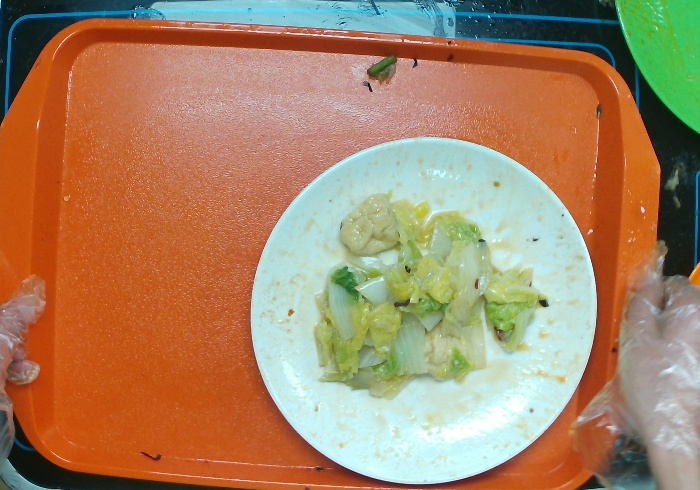HZYJPL-Bai_Se_Yuan_Pan: (249, 133, 599, 490)
